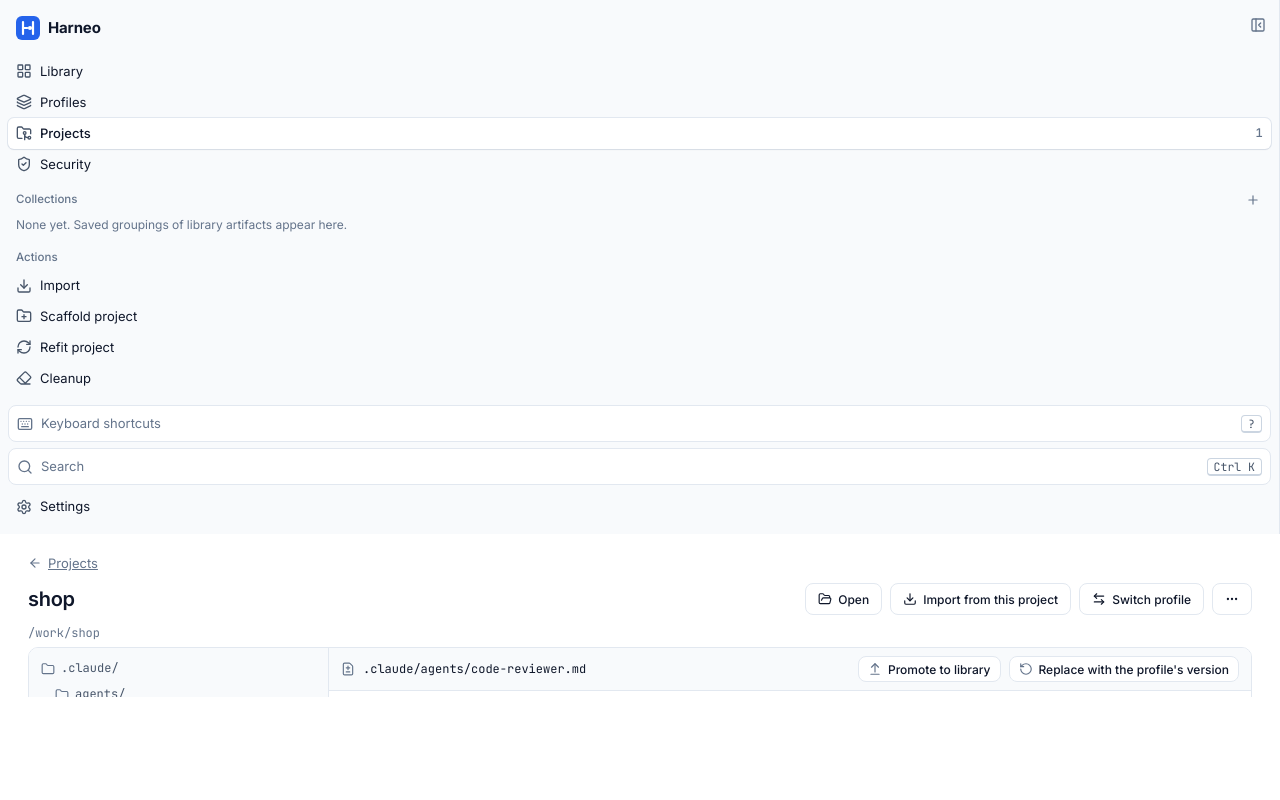
it: Drift tab › shows no diff when it cannot be loaded, and still confirms
The width and height of the screenshot is (1280, 800).
(page scrolled)
Click the button "Replace with the profile's version".
click(1124, 670)  # box [1008,656,1239,682]
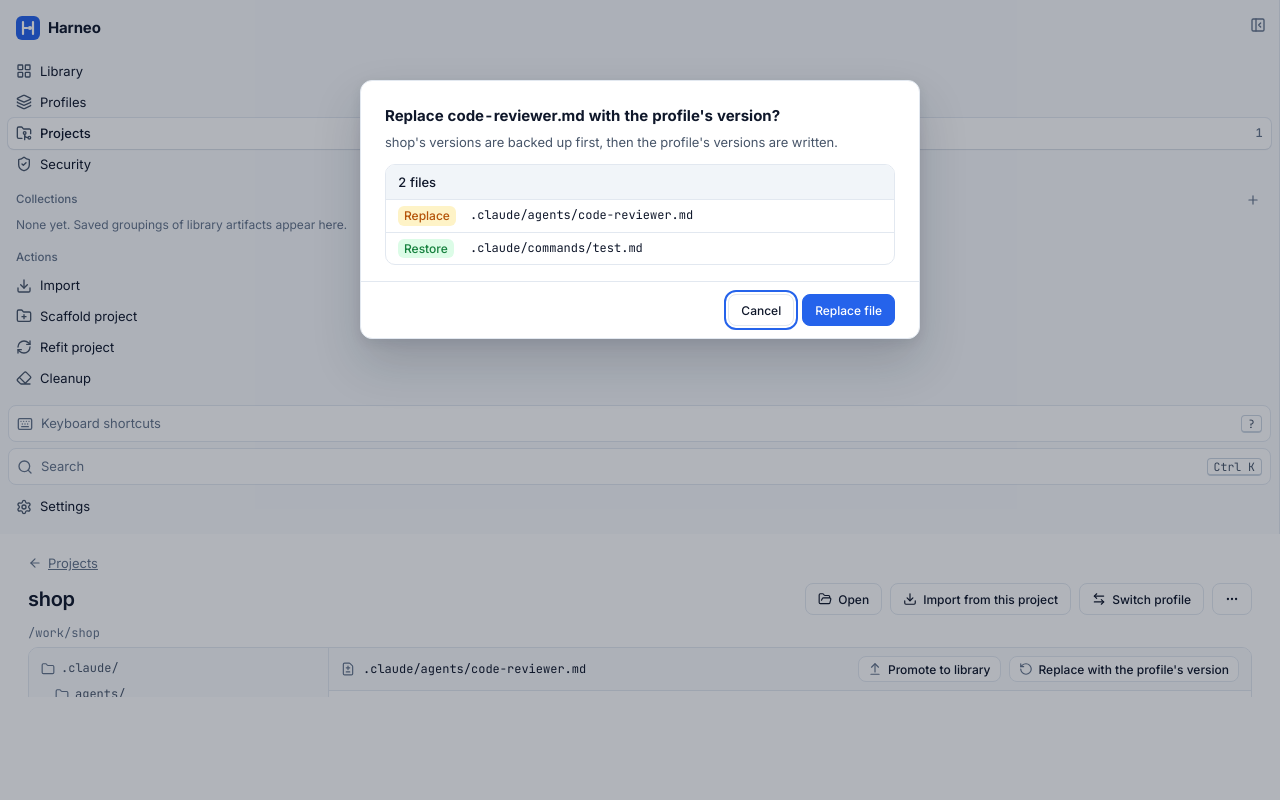
expect the button "Replace file" is enabled: met, box [802,294,895,326]
